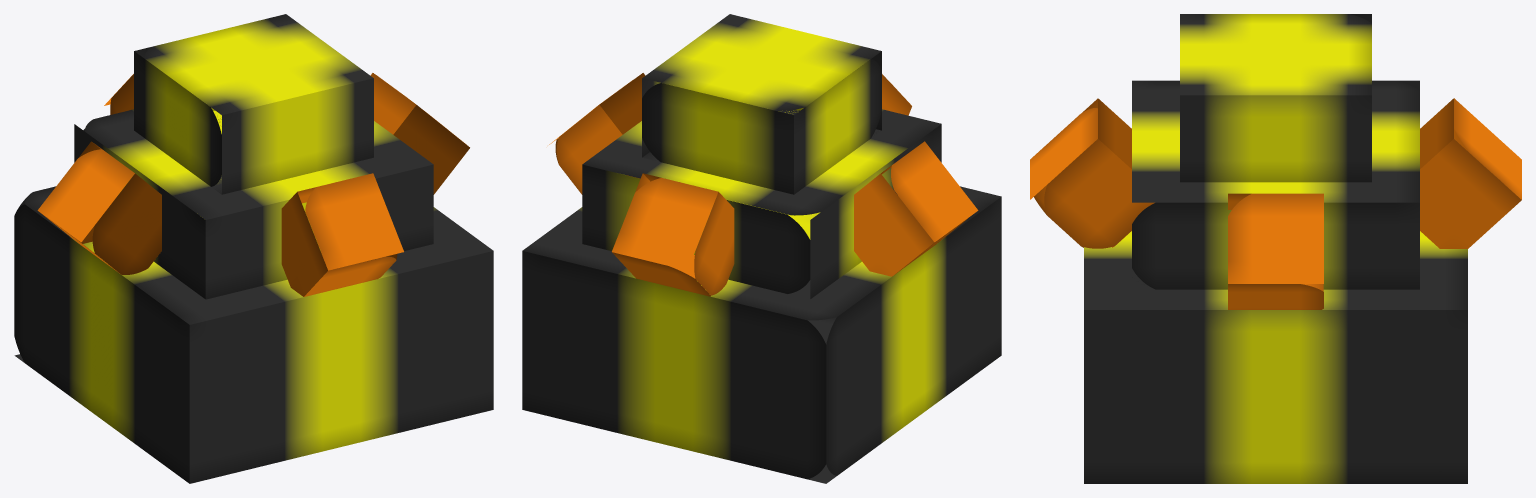
The model's file is missile_head_antballistic.obj.
The picture shows the model from 3 angles, left to right: view 1: azimuth 30°, elevation 25°; view 2: azimuth 150°, elevation 25°; view 3: azimuth 270°, elevation 25°; orthographic projection. The views are drawn at different scales.
Visible parts, largest first — view 1: group_1, group_3, Component_30, group_2; view 2: group_1, group_3, Component_30, group_2; view 3: group_1, Component_30, group_3, group_2.
Boxes of the visible parts, x1=… form: group_1: x1=14, y1=186, x2=493, y2=483; group_3: x1=134, y1=14, x2=373, y2=194; Component_30: x1=37, y1=73, x2=469, y2=296; group_2: x1=74, y1=109, x2=433, y2=299; group_1: x1=522, y1=186, x2=1001, y2=483; group_3: x1=642, y1=14, x2=881, y2=194; Component_30: x1=549, y1=73, x2=978, y2=296; group_2: x1=582, y1=109, x2=941, y2=299; group_1: x1=1084, y1=231, x2=1467, y2=483; Component_30: x1=1030, y1=98, x2=1521, y2=309; group_3: x1=1180, y1=14, x2=1371, y2=182; group_2: x1=1132, y1=80, x2=1419, y2=289.
Size of the model in its own units: 64.52 by 50.39 by 64.52.
